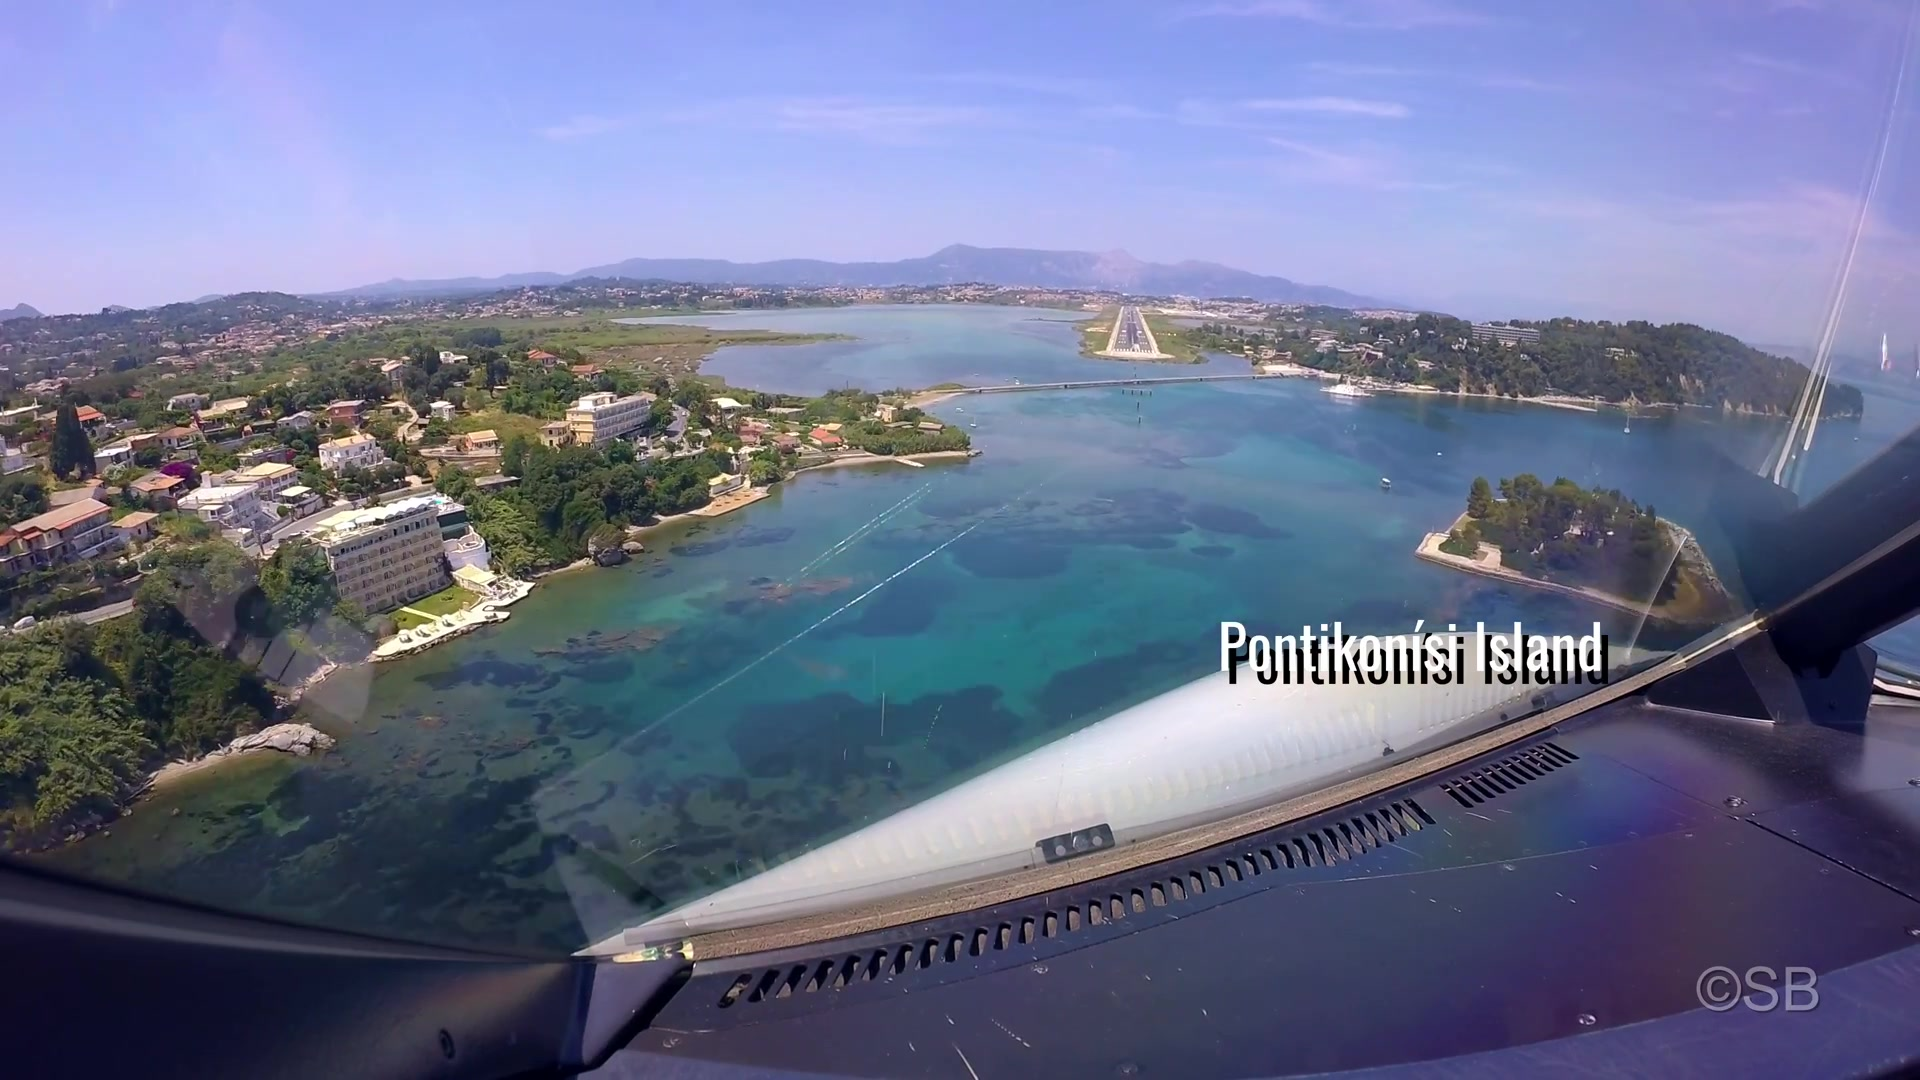entrance: (1113, 347, 1154, 353)
runway: (1112, 305, 1158, 355)
